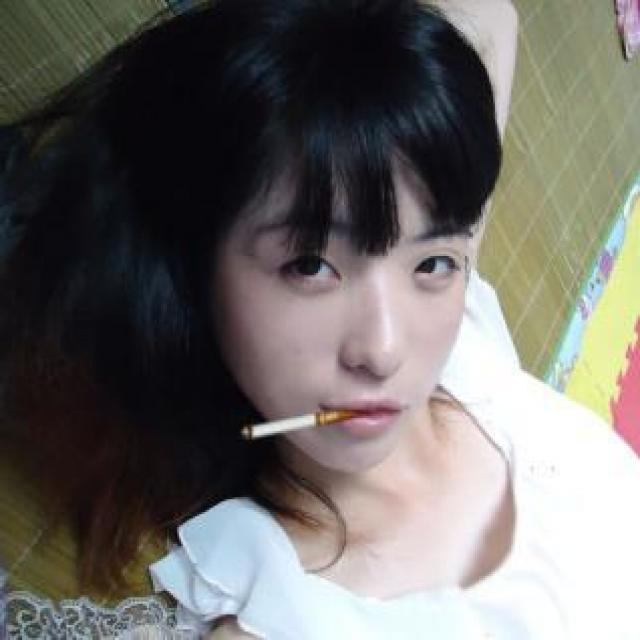smoking: (236, 395, 378, 449)
